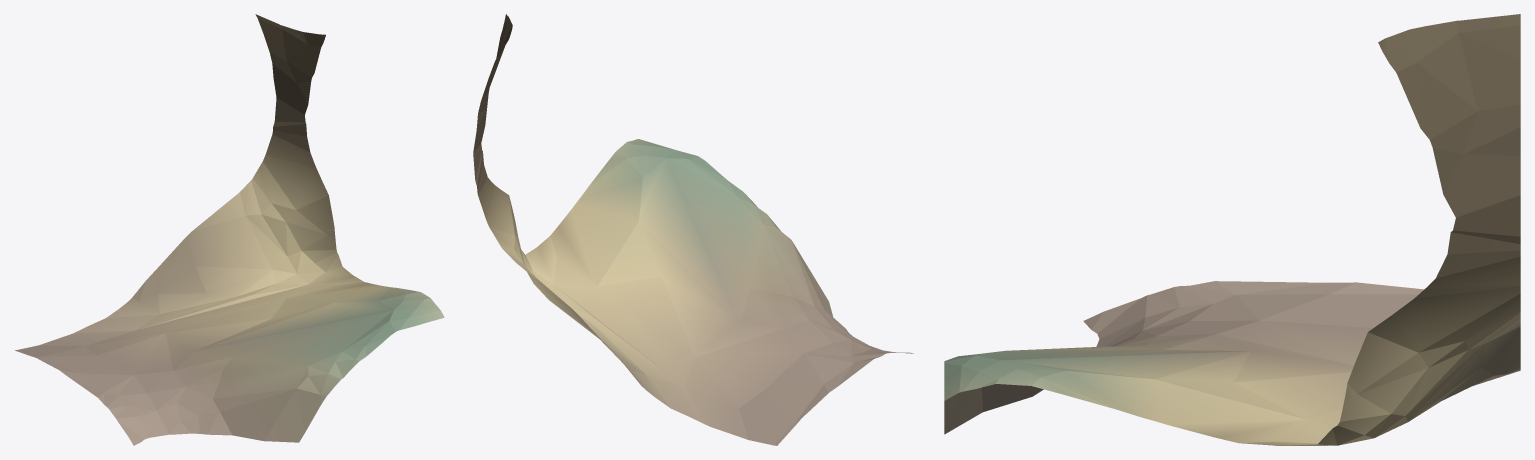
The model's file is bisect-7-4-11.gltf.
The picture shows the model from 3 angles, left to right: view 1: azimuth 30°, elevation 25°; view 2: azimuth 150°, elevation 25°; view 3: azimuth 270°, elevation 25°; orthographic projection. The views are drawn at different scales.
Parts seen in each view (by area): view 1: bisect-7-4-11; view 2: bisect-7-4-11; view 3: bisect-7-4-11.
Boxes of the visible parts, left/top/right/bottom form: bisect-7-4-11: left=15, top=14, right=444, bottom=445; bisect-7-4-11: left=473, top=14, right=913, bottom=445; bisect-7-4-11: left=944, top=14, right=1520, bottom=445.
Size of the model in its own units: 20 by 20 by 20.
